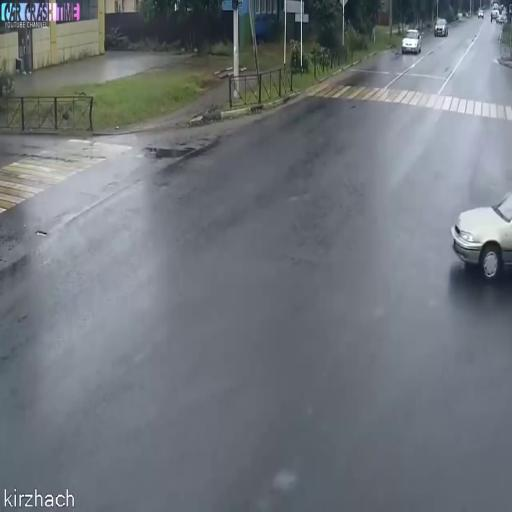小汽车: (449, 178, 512, 289), (402, 28, 424, 58), (434, 18, 449, 38)
